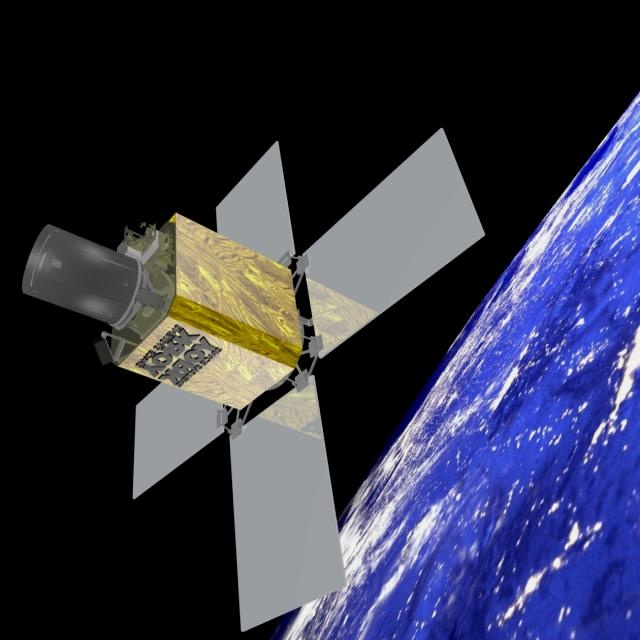medium_debris: (23, 99, 487, 624)
